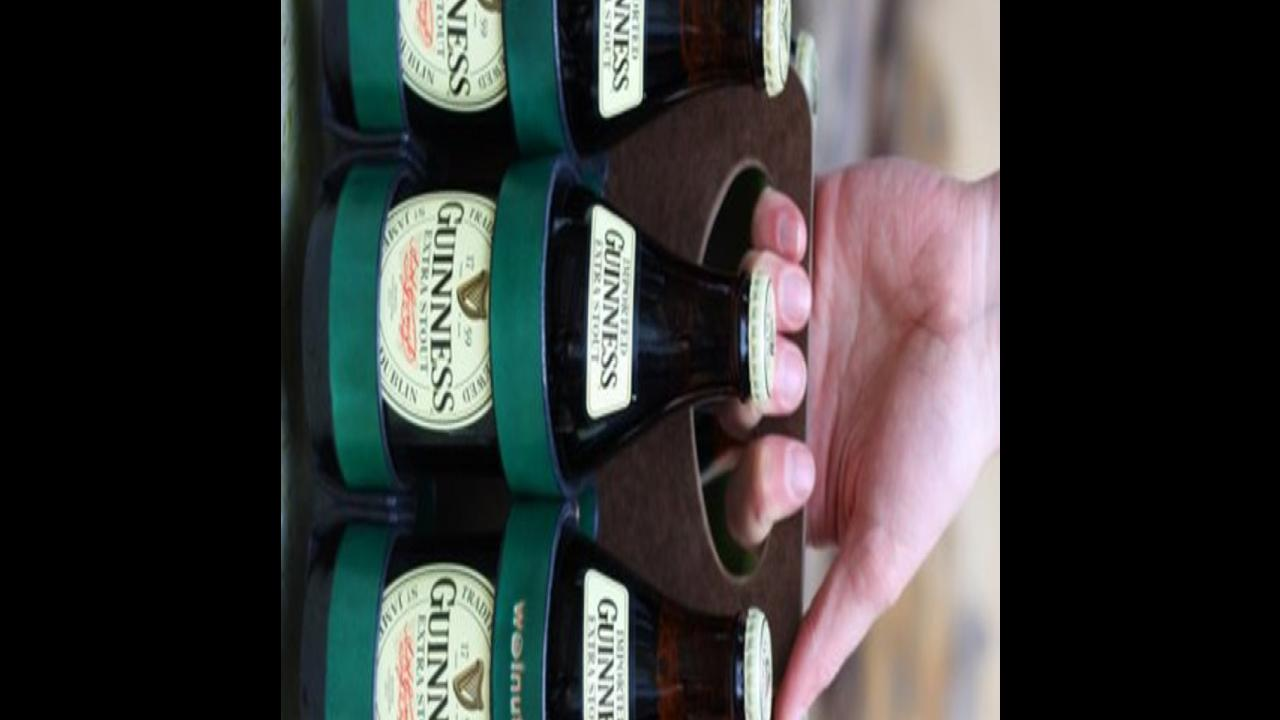bottle_cap: (737, 601, 773, 720), (747, 266, 775, 416), (756, 0, 791, 104)
